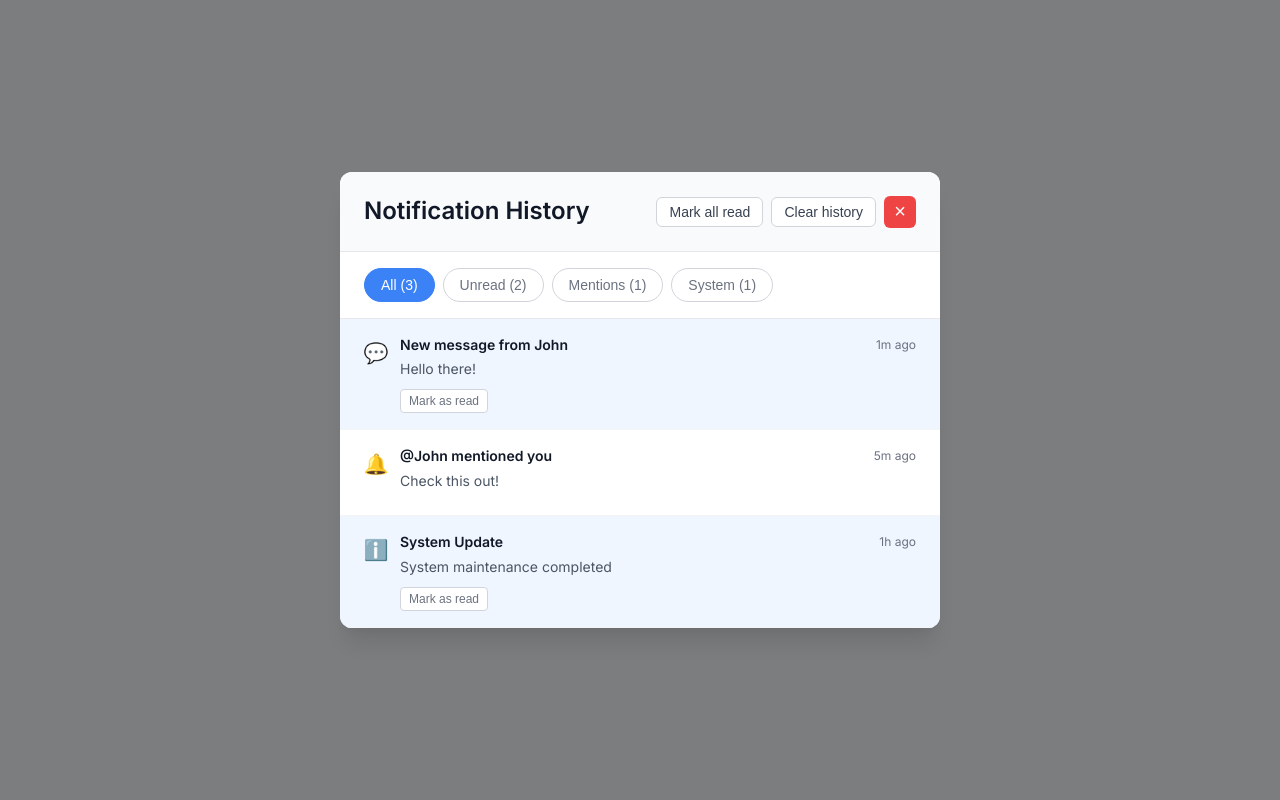
NotificationHistory › should filter notifications when filter buttons are clicked
Note: Click unread filter
Click the button "Unread (2)" at (493, 285), box [443,268,544,302]
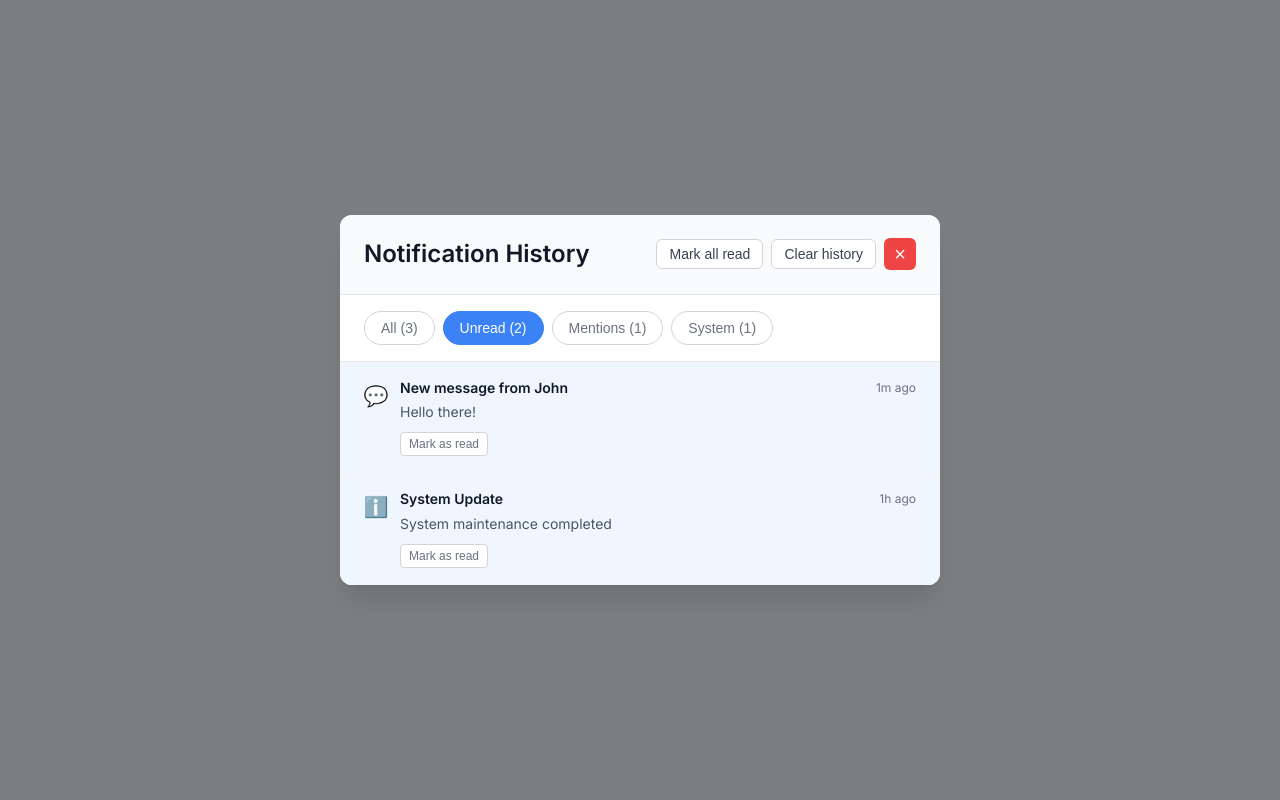
Expected: the heading "New message from John" is shown, [400,378,568,397]
Expected: the heading "@John mentioned you" is gone
Note: Click mentions filter
Click the button "Mentions (1)" at (607, 328), box [552,311,663,345]
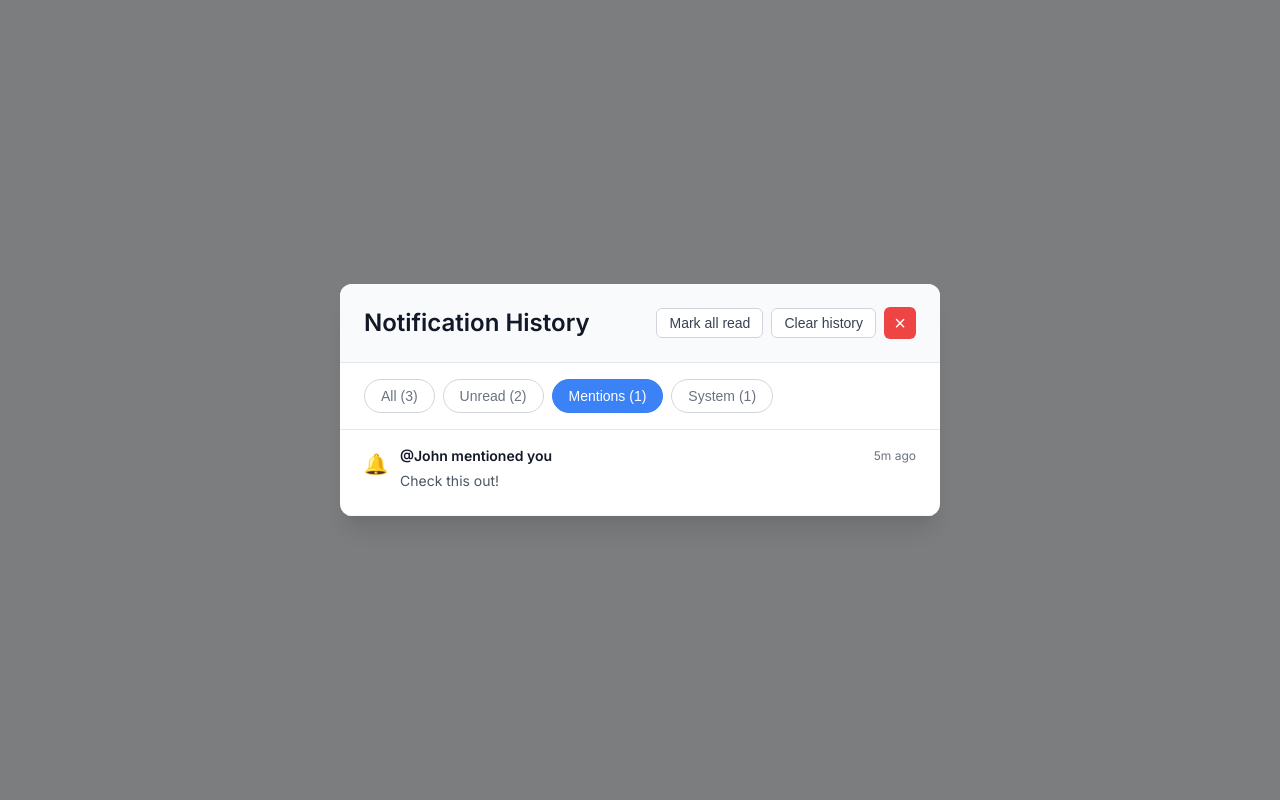
Expected: the heading "@John mentioned you" is shown, [400,446,552,466]
Expected: the heading "New message from John" is gone
Expected: the heading "System Update" is gone
